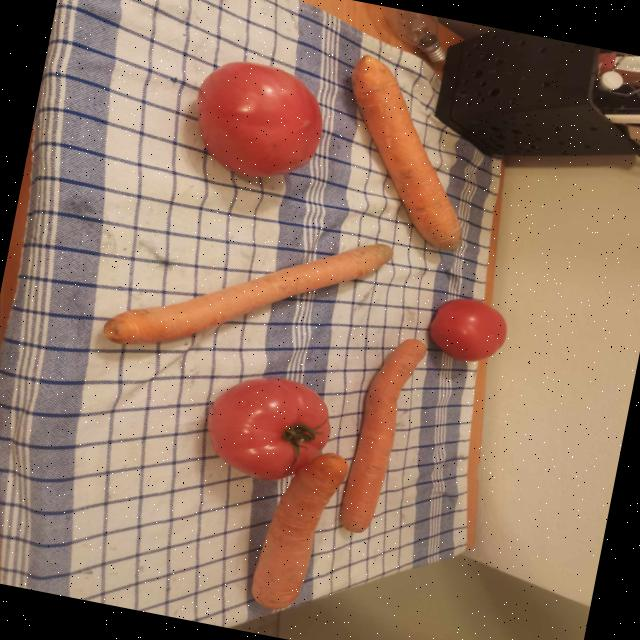carrot: (103, 243, 393, 345), (352, 55, 461, 251), (340, 339, 425, 533), (251, 453, 348, 610)
tomato: (196, 62, 321, 177), (207, 378, 330, 481), (429, 298, 506, 362)
